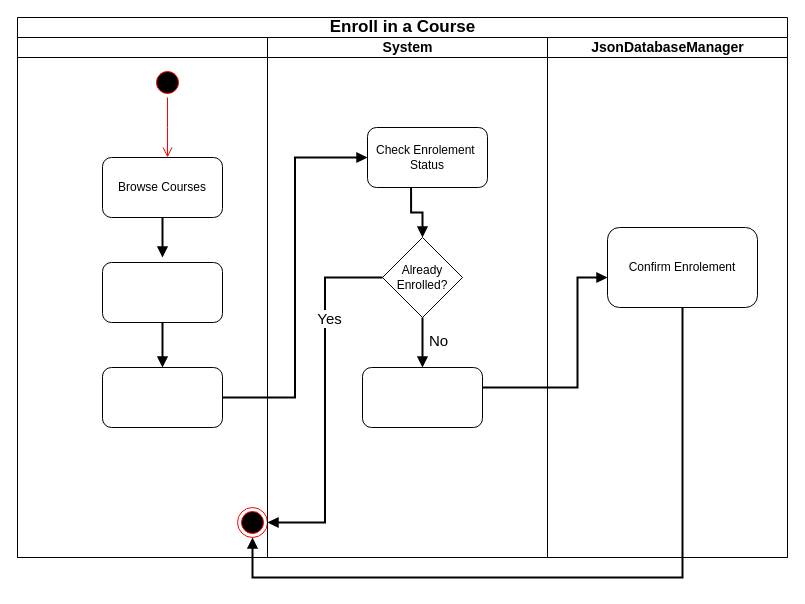
The diagram is 805 pixels wide and 604 high, and some of its shapes have lost their labels. The shapes that lost their labels are listed below. From the top down, each one's box as (x1, y1, x2, y2) in pixels, then its label:
(16, 36, 268, 558): Student
(102, 262, 222, 322): Select Course
(102, 366, 222, 428): Click Enroll
(362, 366, 482, 428): Register Enrolement
